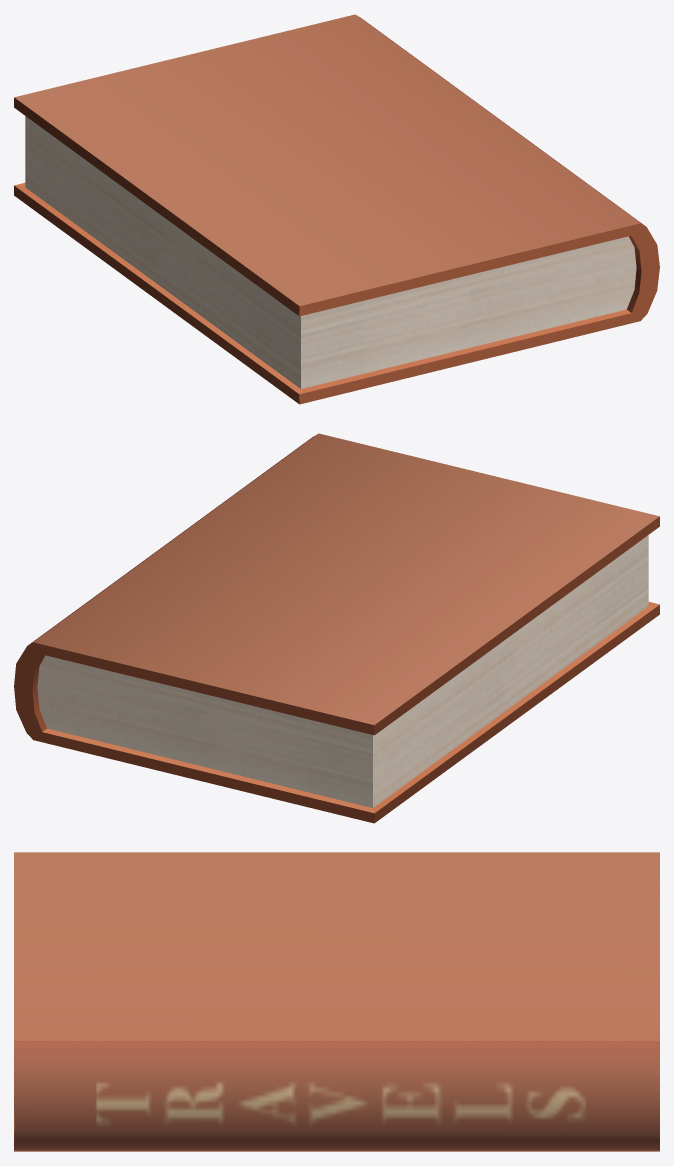
Rendered from Doll_OB_Book_002.FBX.
The picture shows the model from 3 angles, top to bottom: view 1: azimuth 30°, elevation 25°; view 2: azimuth 150°, elevation 25°; view 3: azimuth 270°, elevation 25°; orthographic projection. The views are drawn at different scales.
Visible parts, largest first — view 1: Doll_OB_Book_002; view 2: Doll_OB_Book_002; view 3: Doll_OB_Book_002.
Part boxes in pixels (x1,y1,x2,y2): Doll_OB_Book_002: (14,14,659,404); Doll_OB_Book_002: (14,433,659,823); Doll_OB_Book_002: (14,852,659,1151).
Size of the model in its own units: 12.06 by 3.14 by 16.53.
